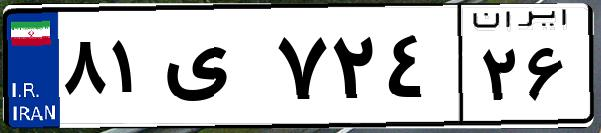1: (110, 28, 158, 98)
2: (330, 28, 385, 110), (475, 38, 525, 113)
4: (385, 28, 445, 110)
6: (525, 38, 570, 115)
7: (270, 28, 330, 110)
8: (57, 26, 110, 100)
ی: (158, 20, 270, 120)
